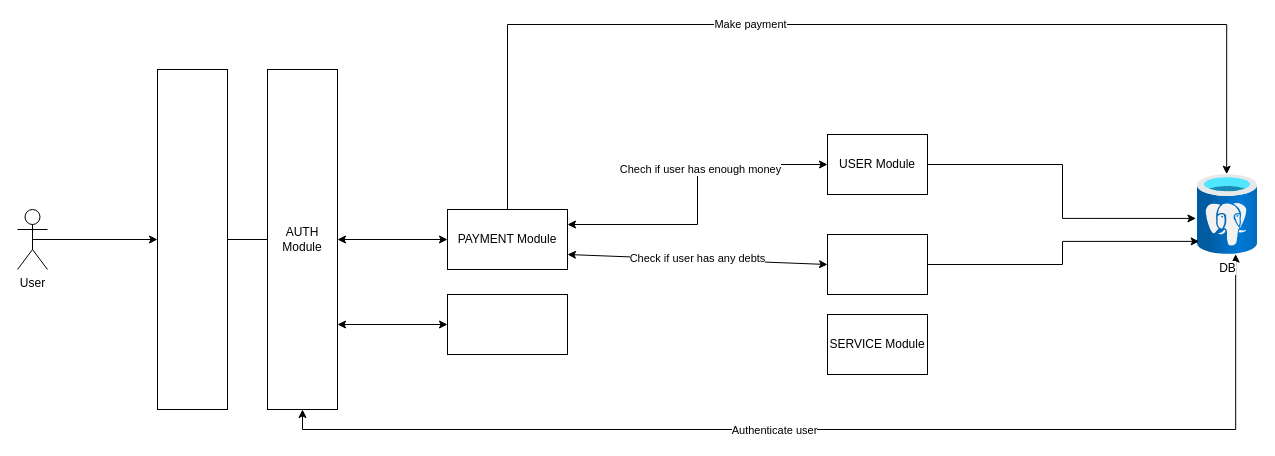
The diagram is 1275 pixels wide and 456 high, and some of its shapes have lost their labels. The centre of each missing label's shape, as x and y in pixels:
"API GATEWAY" belongs at (x=192, y=239).
"DEBTS Module" belongs at (x=877, y=264).
"REPORT Module" belongs at (x=507, y=324).
